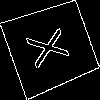X: (25, 22, 79, 69)
